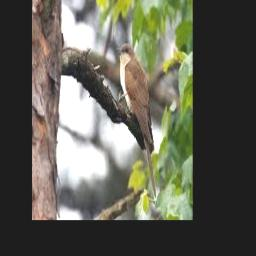Cuckoo: (117, 44, 156, 198)
